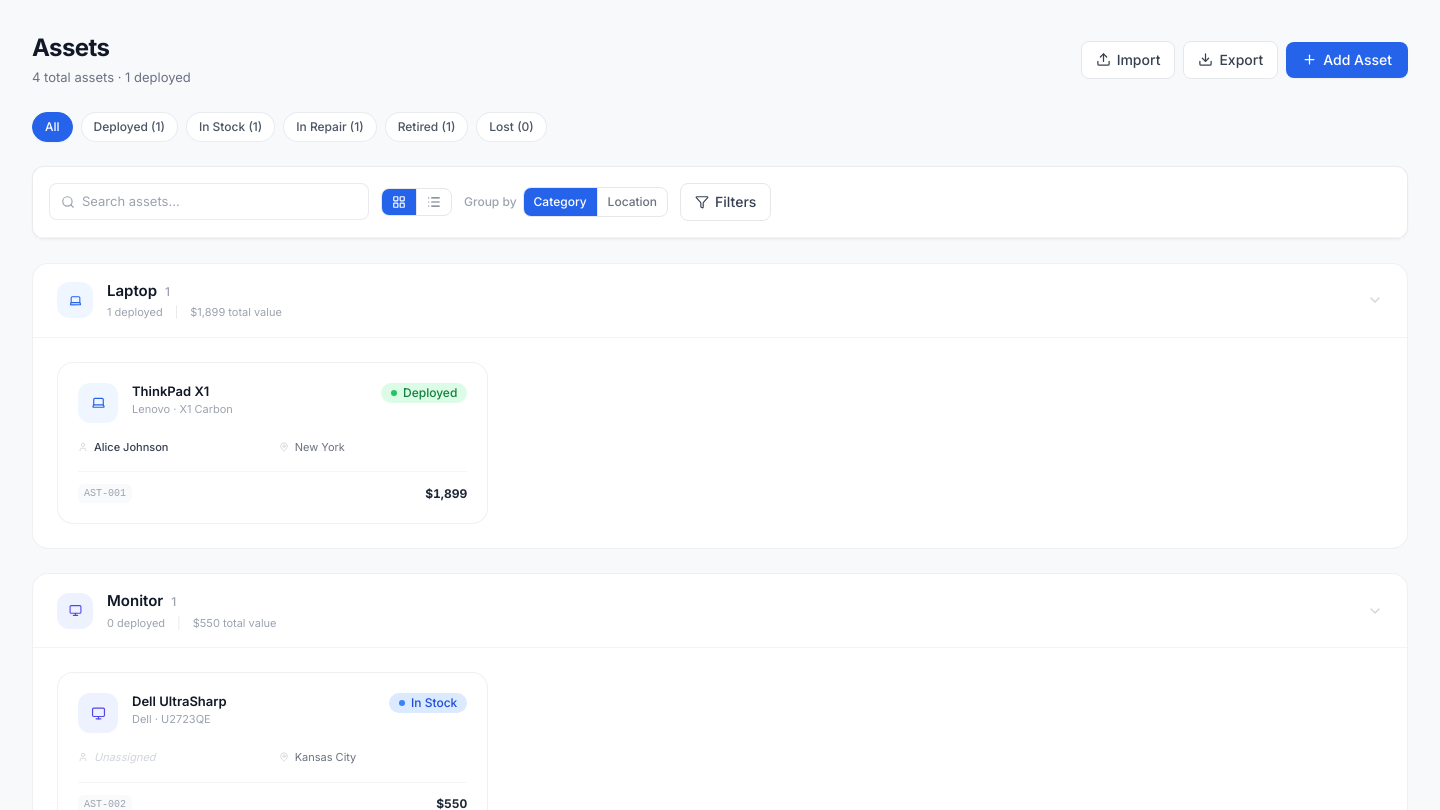
Test case: AssetList page › search filters assets › filters assets by asset tag
Type "AST-002" into the field with placeholder "Search assets..." at (209, 202), box [49, 183, 369, 220]
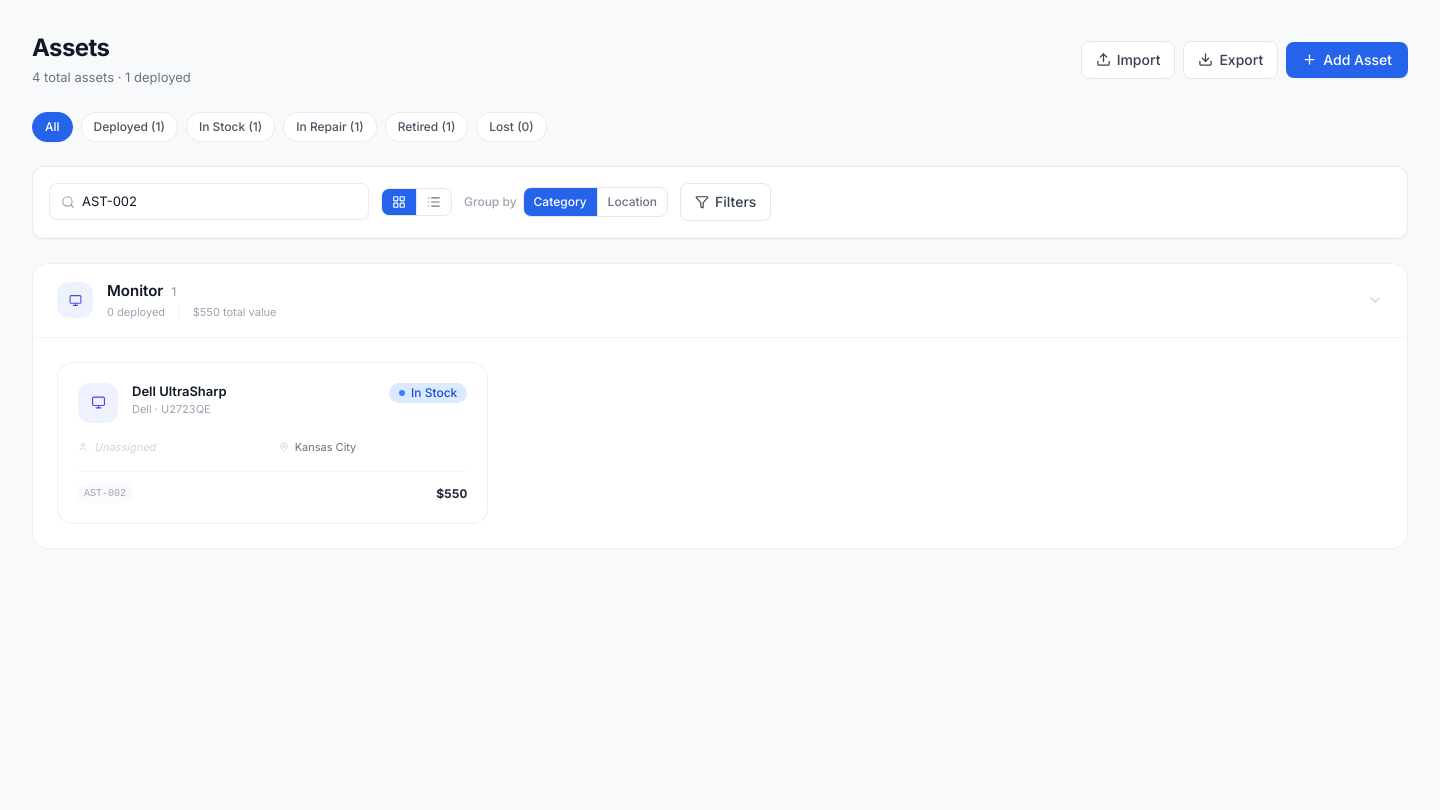
Expected: the text "Dell UltraSharp" is shown, [132, 382, 227, 398]
Now the text "ThinkPad X1" is gone
